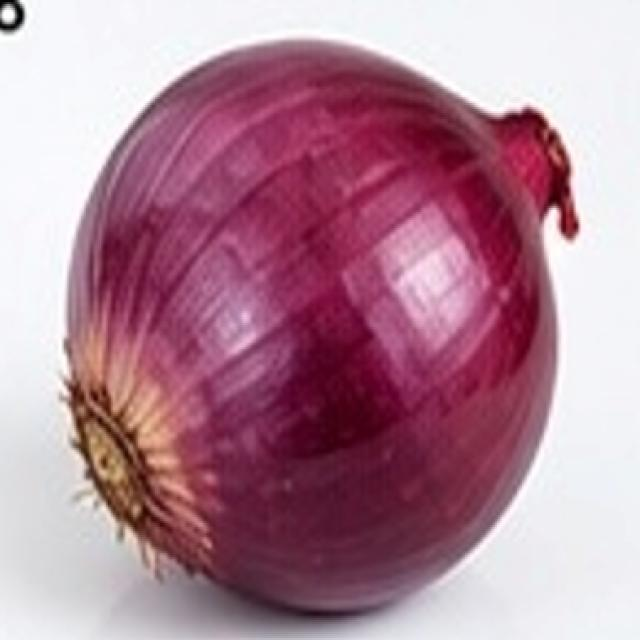healthy: (35, 16, 629, 630), (66, 42, 576, 608)
